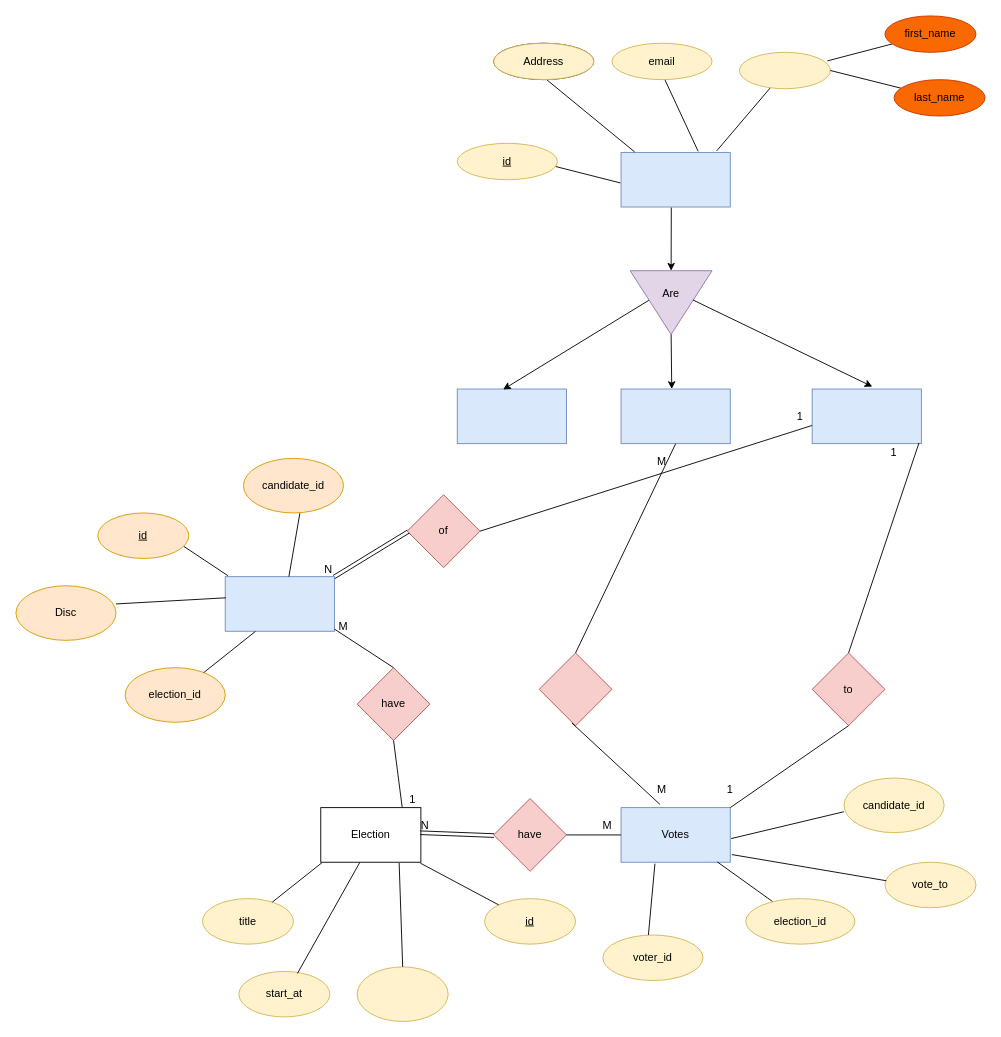
Some shapes in this 1001 by 1037 pixel diagram are drawn without their labels. Each missing label, with the box of its shape:
Admin: (456, 388, 566, 444)
Agenda: (224, 576, 334, 631)
by: (538, 652, 612, 726)
Candidate: (811, 388, 921, 444)
end_at: (356, 966, 448, 1021)
name: (738, 51, 830, 89)
User: (620, 152, 730, 207)
Voter: (620, 388, 730, 444)
